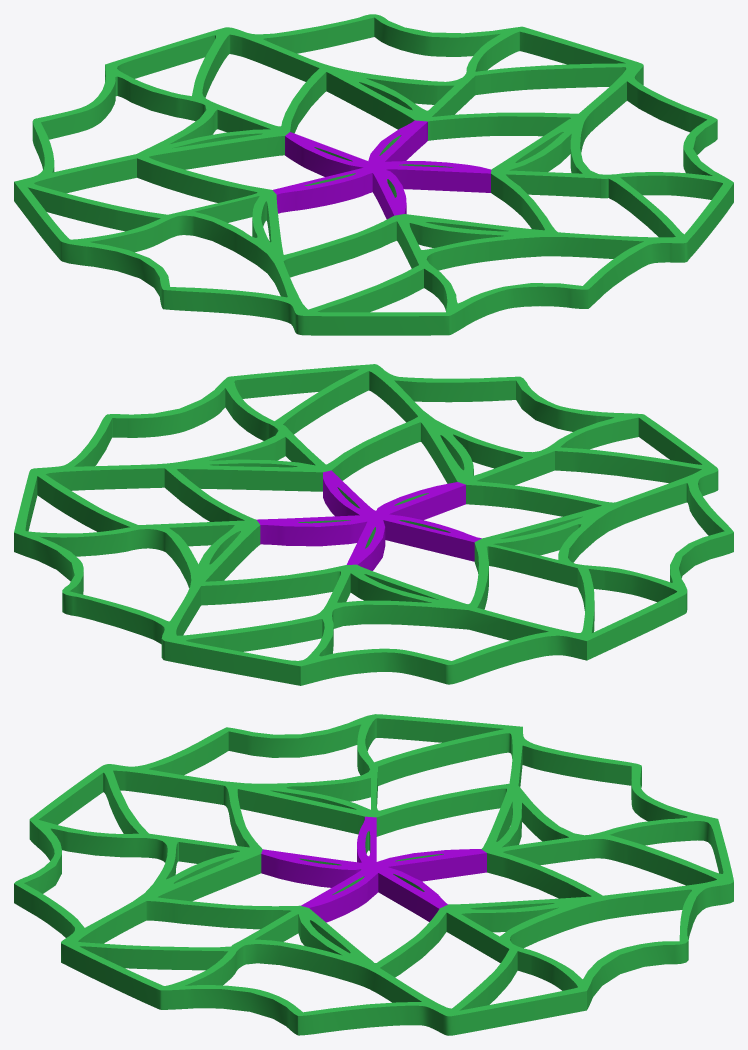
3 views of the same model, one above another, from view 1: azimuth 30°, elevation 25°; view 2: azimuth 150°, elevation 25°; view 3: azimuth 270°, elevation 25° (orthographic).
Parts seen in each view (by area): view 1: Object_2.001, Object_2.006, Object_2.117, Object_2.044, Object_2.008, Object_2.012, Object_2.003, Object_2.024, Object_2.002, Object_2.011, Object_2.013, Object_2.069 (+28 smaller); view 2: Object_2.001, Object_2.008, Object_2.117, Object_2.049, Object_2.006, Object_2.072, Object_2.107, Object_2.103, Object_2.031, Object_2.053, Object_2.012, Object_2.037 (+28 smaller); view 3: Object_2.001, Object_2.008, Object_2.117, Object_2.010, Object_2.039, Object_2.031, Object_2.020, Object_2.029, Object_2.076, Object_2.034, Object_2.002, Object_2.007 (+26 smaller).
Part boxes in pixels (x1,y1,x2,y2): Object_2.001: [14, 14, 733, 316]; Object_2.006: [14, 182, 588, 335]; Object_2.117: [273, 120, 491, 215]; Object_2.044: [426, 237, 643, 270]; Object_2.008: [32, 65, 733, 308]; Object_2.012: [90, 215, 287, 297]; Object_2.003: [475, 67, 625, 95]; Object_2.024: [428, 116, 569, 140]; Object_2.002: [149, 136, 284, 169]; Object_2.011: [475, 31, 625, 71]; Object_2.013: [276, 173, 393, 219]; Object_2.069: [374, 17, 499, 56]; Object_2.001: [14, 364, 733, 666]; Object_2.008: [14, 532, 586, 685]; Object_2.117: [256, 470, 481, 564]; Object_2.049: [319, 604, 548, 656]; Object_2.006: [587, 470, 733, 660]; Object_2.072: [201, 571, 339, 605]; Object_2.107: [177, 469, 322, 491]; Object_2.103: [555, 451, 701, 483]; Object_2.031: [40, 529, 191, 587]; Object_2.053: [466, 484, 601, 516]; Object_2.012: [568, 483, 686, 562]; Object_2.037: [112, 388, 225, 437]; Object_2.001: [14, 714, 733, 1016]; Object_2.008: [14, 767, 733, 1035]; Object_2.117: [261, 816, 486, 908]; Object_2.010: [185, 944, 421, 1002]; Object_2.039: [503, 839, 716, 885]; Object_2.031: [510, 889, 690, 948]; Object_2.020: [378, 733, 512, 785]; Object_2.029: [146, 901, 290, 929]; Object_2.076: [228, 724, 360, 757]; Object_2.034: [113, 770, 249, 847]; Object_2.002: [376, 788, 506, 836]; Object_2.007: [238, 789, 364, 834].
Bounding box in the file's own units: 66.52 × 2 × 66.97.
